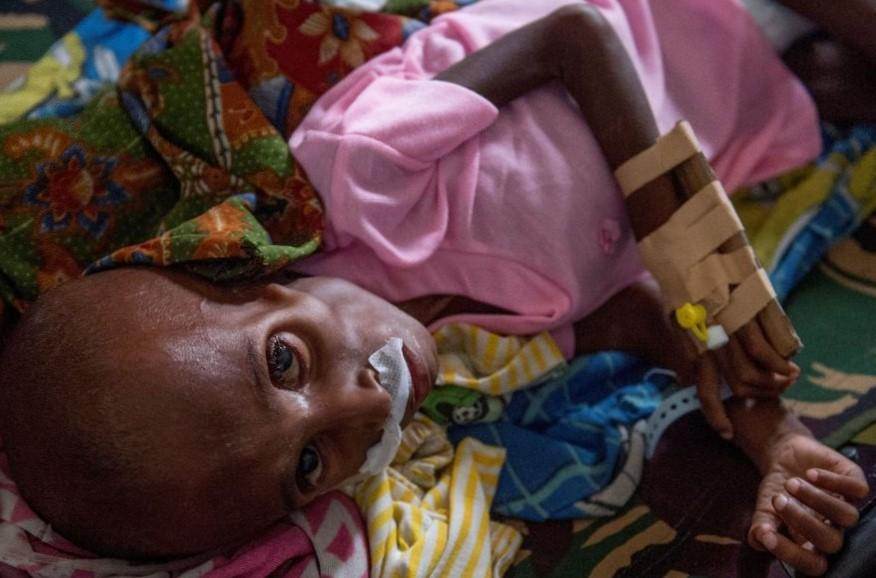Stunting: (27, 221, 444, 578)
